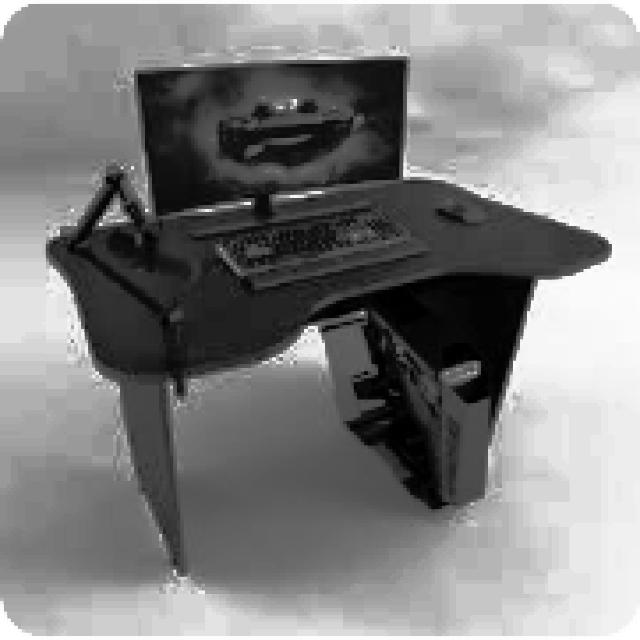table: (43, 166, 608, 573)
